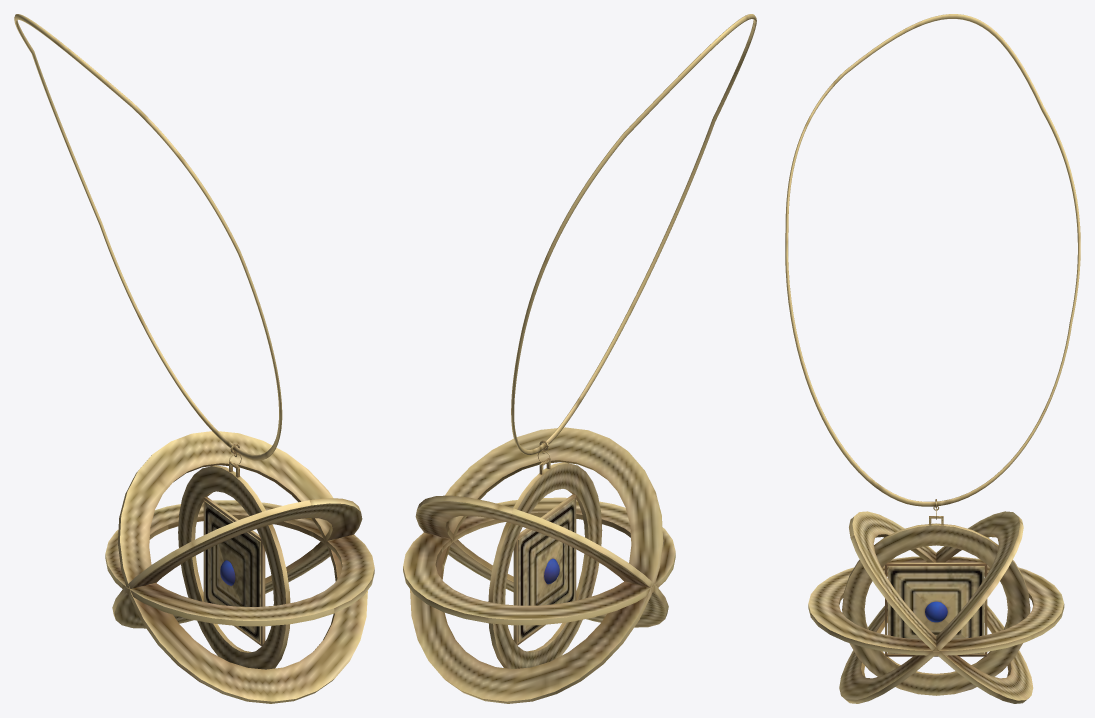
The model's file is amulet-optimized.glb.
3 views of the same model, side by side, from view 1: azimuth 30°, elevation 25°; view 2: azimuth 150°, elevation 25°; view 3: azimuth 270°, elevation 25° (orthographic). The views are drawn at different scales.
Parts seen in each view (by area): view 1: Circle.003, Circle.002, Circle.001, Circle.004, Cube, NurbsCircle; view 2: Circle.004, Circle.002, Circle.001, Circle.003, Cube, NurbsCircle; view 3: Circle.001, Circle.002, Cube, Circle.004, Circle.003, NurbsCircle.
Boxes of the visible parts, box(x1,y1,x2,y2) form: Circle.003: box(117, 431, 367, 703); Circle.002: box(105, 500, 374, 626); Circle.001: box(178, 465, 290, 669); Circle.004: box(112, 498, 362, 628); Cube: box(203, 497, 265, 646); NurbsCircle: box(14, 14, 282, 460); Circle.004: box(410, 427, 663, 703); Circle.002: box(403, 497, 675, 625); Circle.001: box(488, 462, 602, 668); Circle.003: box(415, 495, 668, 627); Cube: box(513, 494, 576, 645); NurbsCircle: box(511, 14, 756, 454); Circle.001: box(842, 523, 1030, 695); Circle.002: box(808, 556, 1064, 655); Cube: box(885, 562, 987, 656); Circle.004: box(849, 511, 1033, 703); Circle.003: box(839, 511, 1023, 703); NurbsCircle: box(785, 14, 1080, 506).
Size of the model in its own units: 3.07 by 6.46 by 2.89.
1 material, 1 textured.
